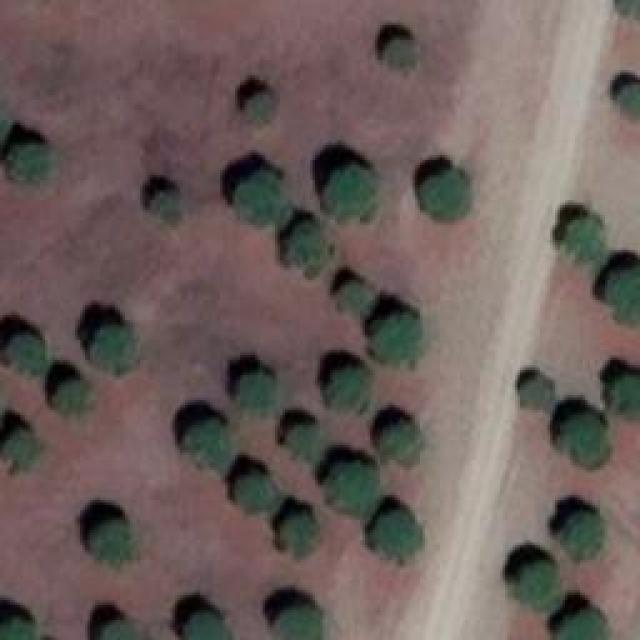Tree: (230, 170, 285, 228), (328, 458, 381, 518), (5, 125, 53, 185), (370, 310, 423, 363), (92, 317, 140, 375), (323, 165, 378, 215), (283, 223, 333, 276), (560, 410, 608, 465), (320, 367, 373, 415), (562, 510, 610, 563), (375, 505, 425, 555), (423, 168, 468, 221), (510, 563, 560, 608), (145, 175, 188, 223), (560, 602, 613, 640), (375, 25, 415, 75), (607, 262, 640, 322), (190, 423, 235, 466), (235, 367, 275, 415), (380, 415, 420, 463), (88, 520, 128, 568), (275, 513, 318, 556), (565, 215, 608, 258), (273, 605, 323, 640), (235, 477, 280, 515), (240, 83, 278, 126), (2, 430, 40, 473), (607, 367, 640, 414), (8, 335, 48, 370), (188, 612, 233, 640), (520, 375, 555, 410), (335, 280, 373, 310), (285, 425, 318, 458), (53, 380, 88, 410), (617, 80, 640, 120), (3, 615, 36, 640), (103, 620, 138, 640), (612, 0, 639, 22)
